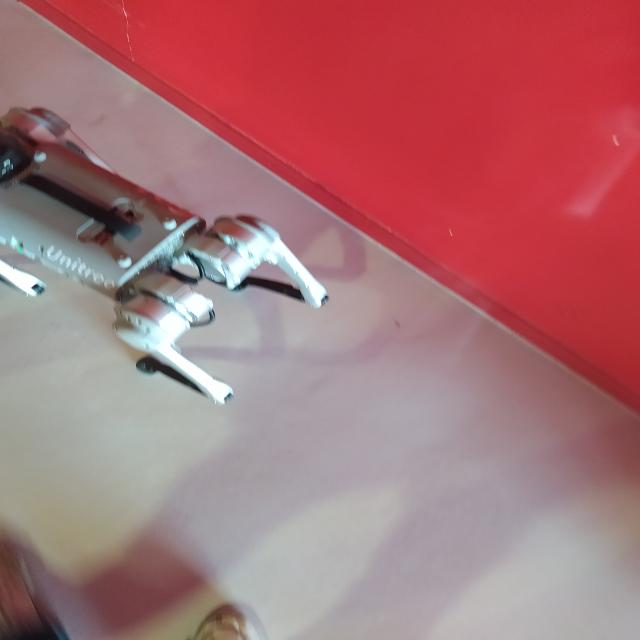unitree-go1-robot: (0, 78, 350, 421)
